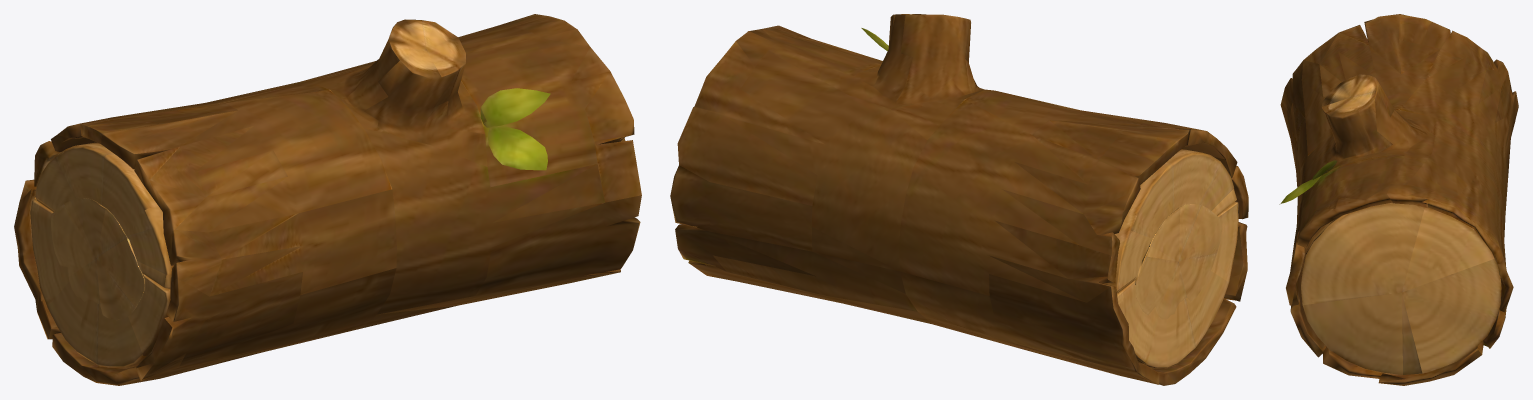
The model's file is log.glb.
3 views of the same model, side by side, from view 1: azimuth 30°, elevation 25°; view 2: azimuth 150°, elevation 25°; view 3: azimuth 270°, elevation 25° (orthographic). The views are drawn at different scales.
Size of the model in its own units: 1 by 0.5898 by 0.5469.
1 material, 1 textured.
